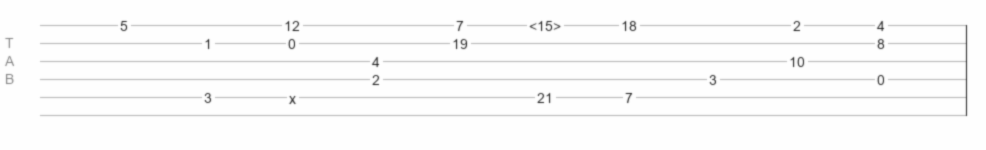0: (288, 36, 296, 46), (877, 72, 885, 82)
1: (204, 36, 212, 46)
10: (789, 54, 805, 64)
12: (284, 18, 300, 28)
18: (621, 18, 637, 28)
19: (452, 36, 468, 46)
2: (372, 72, 380, 82), (793, 18, 801, 28)
21: (537, 90, 553, 100)
3: (204, 90, 212, 100), (709, 72, 717, 82)
4: (372, 54, 380, 64), (877, 18, 885, 28)
5: (120, 18, 128, 28)
7: (456, 18, 464, 28), (625, 90, 633, 100)
8: (877, 36, 885, 46)
harmonic: (529, 18, 561, 28)
x: (289, 91, 296, 99)
